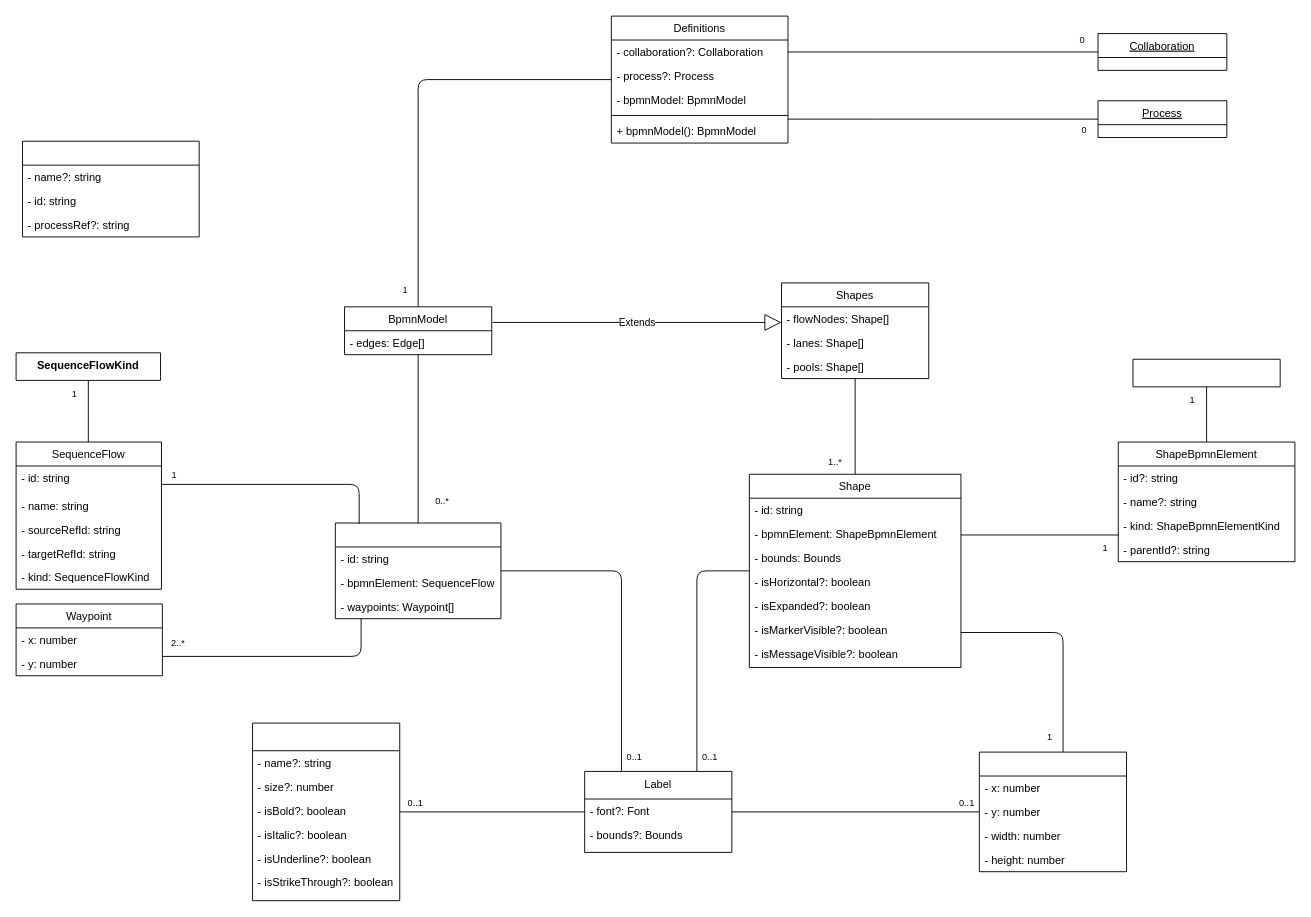
This 1311x917 diagram has some shape labels left out. Here are the shapes that lost their labels. From the top down, the box of each, then its label:
(22, 140, 199, 237): Participant
(1132, 358, 1280, 387): ShapeBpmnElementKind
(334, 522, 501, 619): Edge
(252, 722, 400, 901): Font
(978, 751, 1127, 872): Bounds
